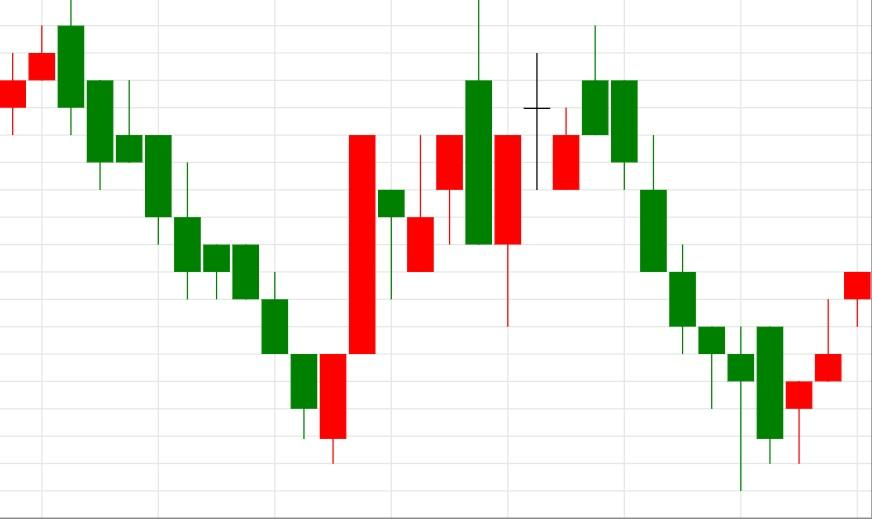bullish_engulfing_rise: (57, 0, 348, 464)
hammer_rise: (582, 24, 814, 491)
